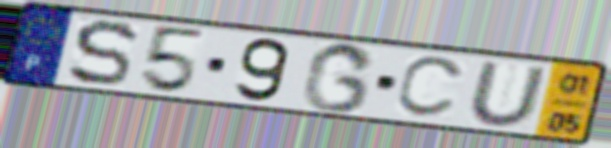5: (136, 24, 211, 95)
9: (233, 37, 292, 103)
C: (392, 55, 470, 121)
G: (298, 41, 379, 115)
S: (65, 18, 141, 89)
U: (465, 60, 550, 130)
